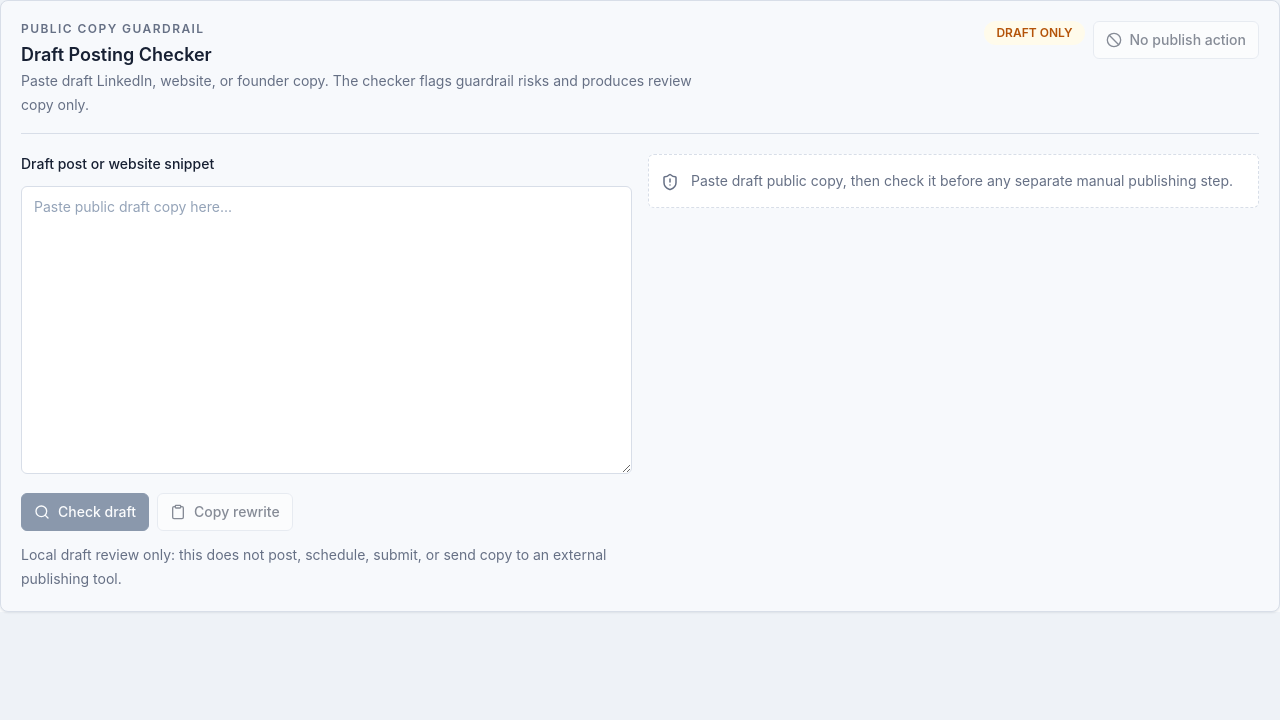
Test: PostingGuardrailChecker › reports a clean result and keeps the check disabled until copy is entered
expect the button "Check draft" is disabled: met, box [21,492,149,530]
Step 1. Type "We share weekly notes about running a small company and the lessons we learn." into the text box labelled "Draft post or website snippet" → (326, 330), box [21,186,632,474]
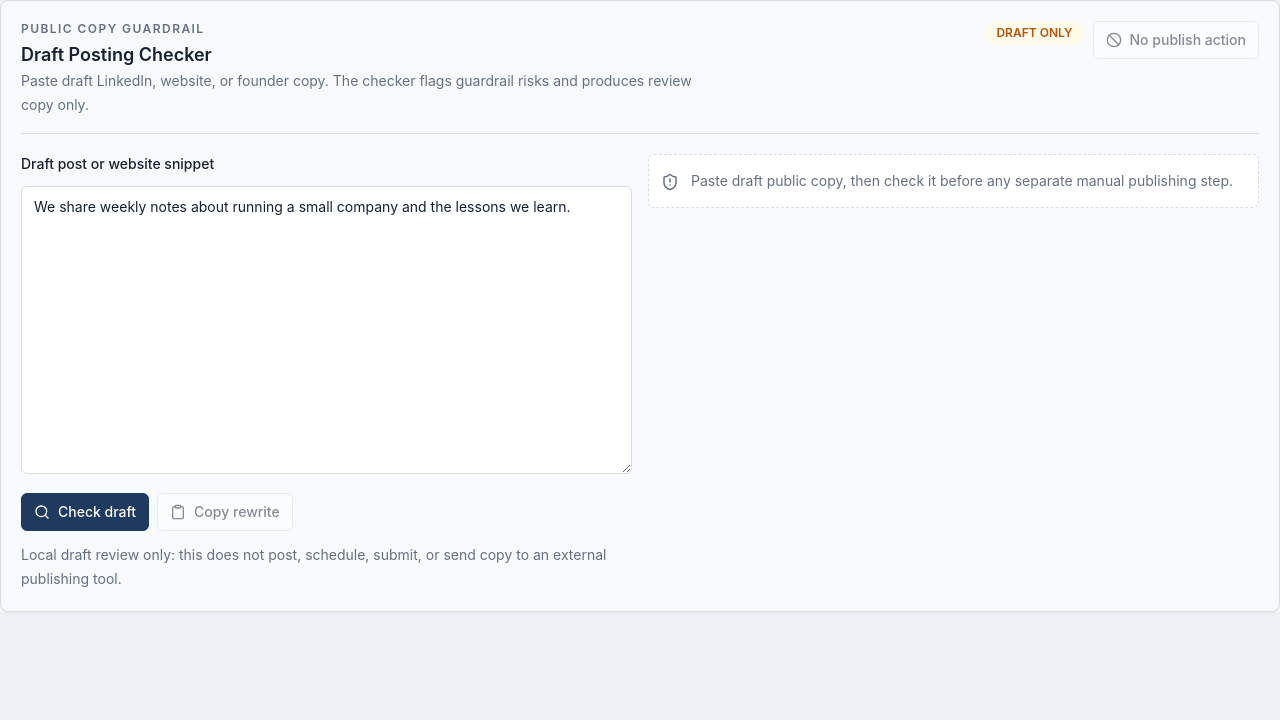
Step 2. Click the button "Check draft" → (85, 512), box [21,492,149,530]
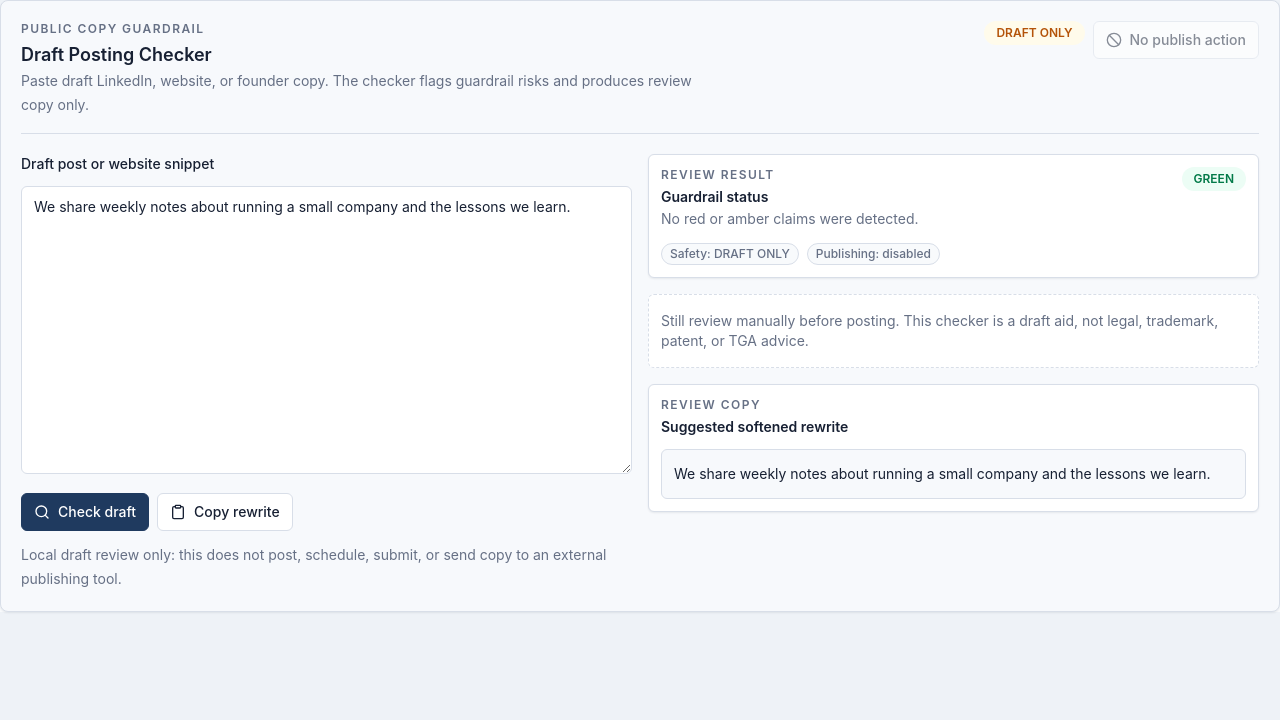
expect the text "No red or amber claims were detected." is shown: met, box [661,207,918,231]
expect the text "This checker is a draft aid" is shown: met, box [661,312,1218,349]
